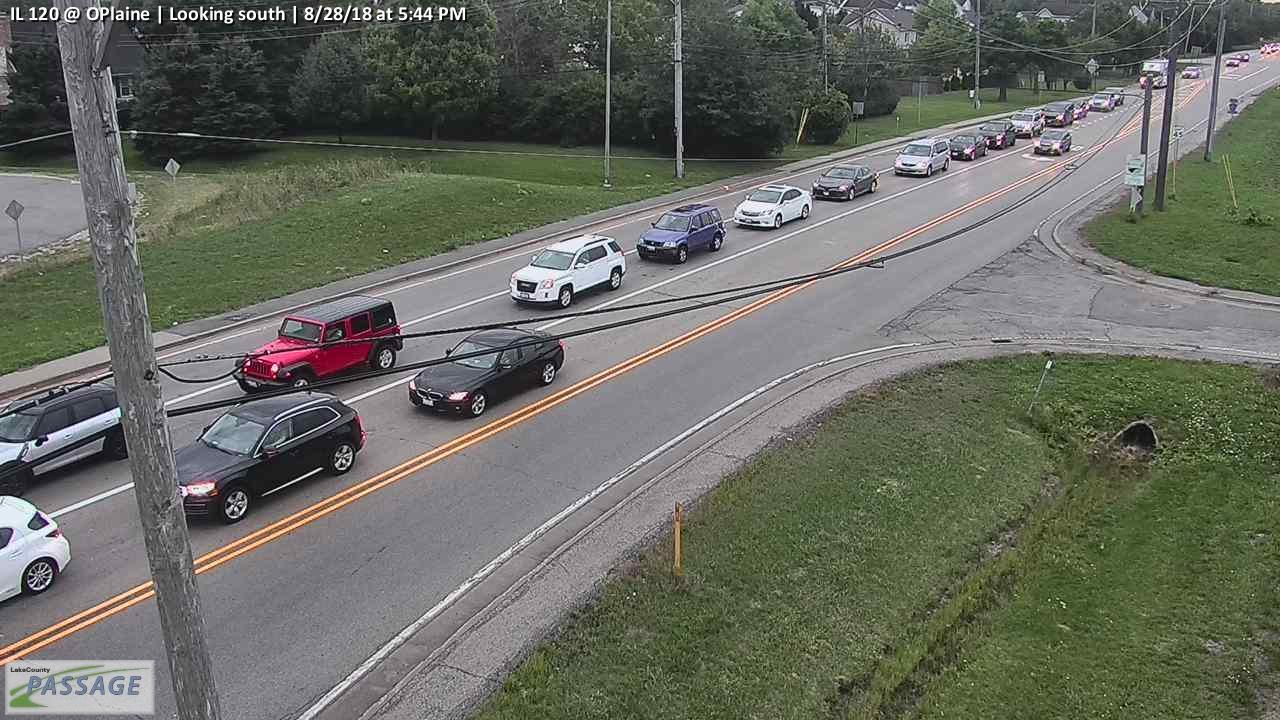SUV: (173, 388, 364, 525), (233, 292, 404, 397), (509, 232, 627, 309), (636, 204, 728, 265), (894, 136, 951, 178), (1011, 107, 1046, 140), (979, 118, 1016, 149), (1034, 129, 1072, 155), (1042, 100, 1075, 127)
Sedan: (1, 377, 133, 497), (408, 325, 565, 419), (733, 183, 814, 230), (811, 163, 881, 201), (947, 131, 989, 161), (1089, 91, 1116, 113), (1105, 86, 1125, 106), (1072, 98, 1091, 119), (1181, 66, 1202, 79)
Truck: (1139, 59, 1170, 88)
